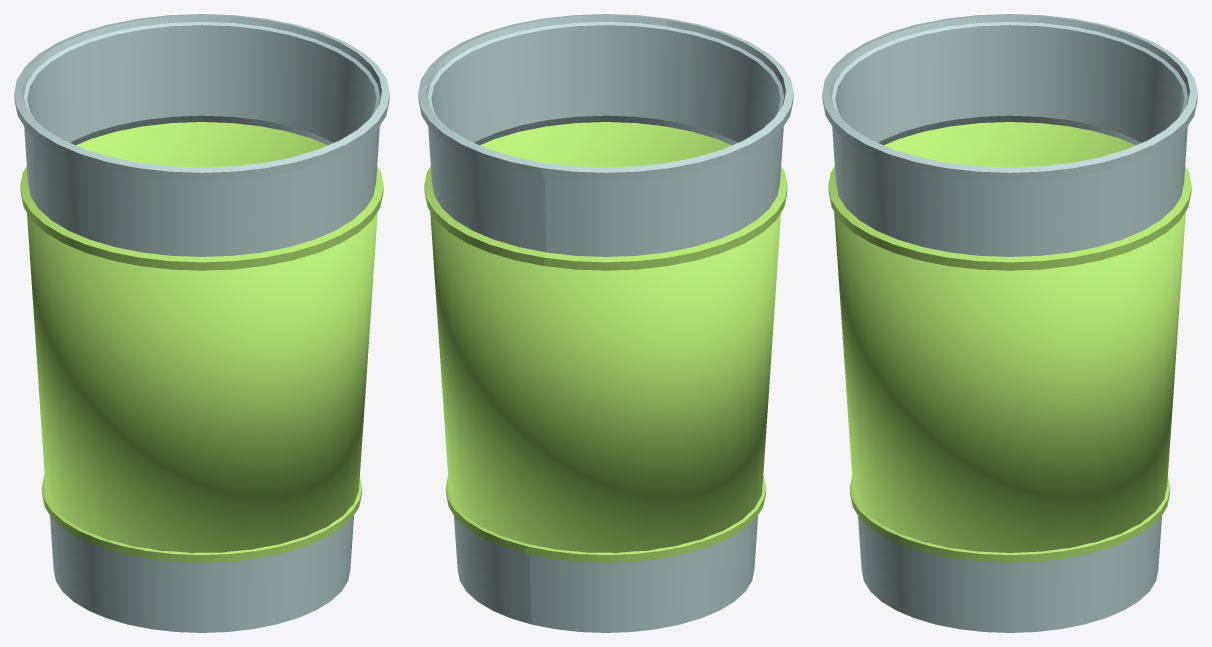
File: 컵안쪽테스트.fbx
The picture shows the model from 3 angles, left to right: view 1: azimuth 30°, elevation 25°; view 2: azimuth 150°, elevation 25°; view 3: azimuth 270°, elevation 25°; orthographic projection.
Visible parts, largest first — view 1: cup_for_pen; view 2: cup_for_pen; view 3: cup_for_pen.
Boxes of the visible parts, <box> form: cup_for_pen: <box>14,14,389,632</box>; cup_for_pen: <box>418,14,793,632</box>; cup_for_pen: <box>822,14,1197,632</box>.
Size of the model in its own units: 686 by 964 by 686.
